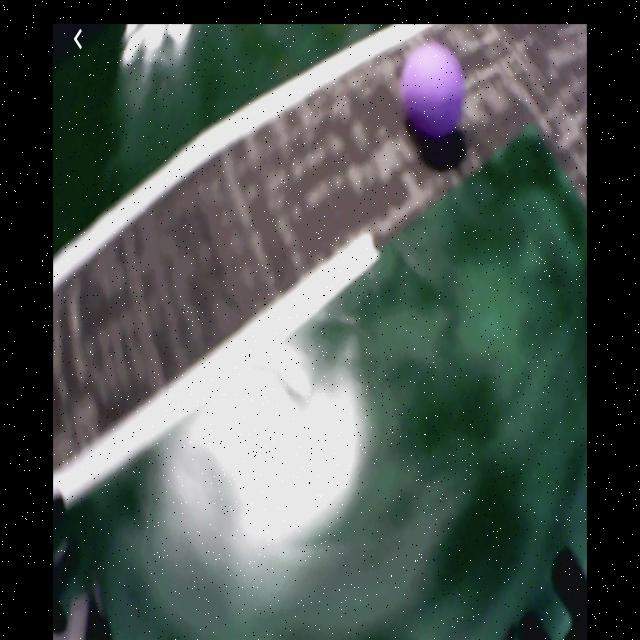ball: (403, 44, 465, 140)
